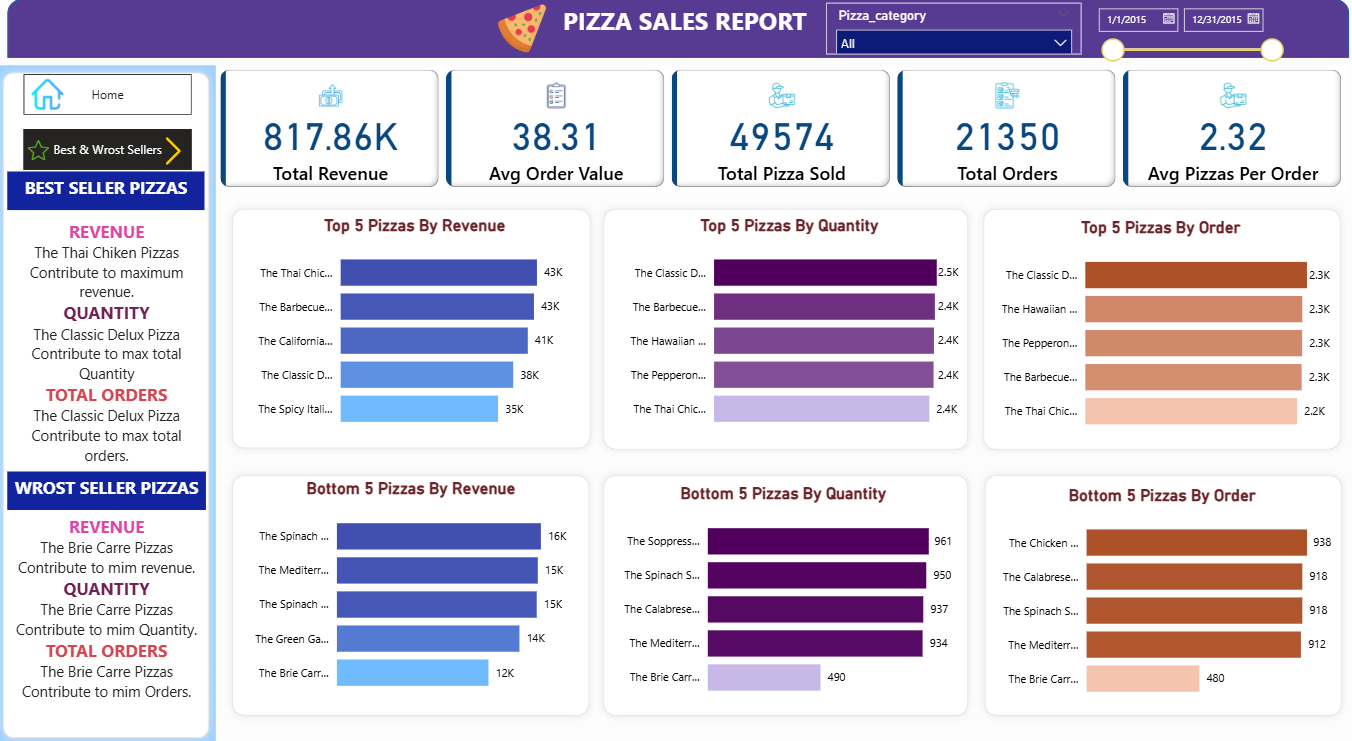

The dashboard page shown, as its layout file describes it:
{"tool":"powerbi","page":{"name":"Best & Wrost Sellers","canvas":[1500,820],"ordinal":1},"visuals":[{"type":"cardVisual","fields":{"Data":["pizza_sales.Total Revenue","pizza_sales.Avg Order Value","pizza_sales.Total Pizza Sold","pizza_sales.Total Orders","pizza_sales.Avg Pizzas Per Order"]},"box":[242.1,73.2,1244.9,139.4],"z":0},{"type":"shape","box":[0,72.8,241.8,747.5],"z":1000},{"type":"shape","box":[11.8,0,1475.2,65],"z":2000},{"type":"textbox","box":[618.2,0,294.6,66.2],"z":3000},{"type":"image","box":[538.6,0,79.6,65.1],"z":4000},{"type":"shape","box":[251.4,221.9,410.1,279.5],"z":5000},{"type":"textbox","box":[12.4,189.6,217.1,42.6],"z":6000},{"type":"textbox","box":[12.4,237.7,218.5,310.5],"z":7000},{"type":"textbox","box":[12.4,519.4,218.5,42.6],"z":8000},{"type":"textbox","box":[12.4,562,218.5,233.6],"z":9000},{"type":"slicer","fields":{"Values":["pizza_sales.pizza_category"]},"box":[911.8,3.5,281.1,56.7],"z":10000},{"type":"slicer","fields":{"Values":["pizza_sales.order_date"]},"box":[1200,0,224.4,82.7],"z":11000},{"type":"shape","box":[251.4,515.4,408.7,280.9],"z":12000},{"type":"shape","box":[660.1,221.9,417.1,280.9],"z":13000},{"type":"shape","box":[660.1,515.4,417.1,280.9],"z":14000},{"type":"shape","box":[1077.2,221.9,408.7,280.9],"z":15000},{"type":"shape","box":[1078.7,515.4,408.7,280.9],"z":16000},{"type":"barChart","title":"Top 5 Pizzas By Revenue","fields":{"Category":["pizza_sales.pizza_name"],"Y":["pizza_sales.Total Revenue"]},"box":[271.7,238.3,376.7,248.3],"z":17000},{"type":"barChart","title":"Bottom 5 Pizzas By Revenue","fields":{"Category":["pizza_sales.pizza_name"],"Y":["pizza_sales.Total Revenue"]},"box":[268.3,528.1,376.4,248.6],"z":18000},{"type":"barChart","title":"Top 5 Pizzas By Quantity","fields":{"Category":["pizza_sales.pizza_name"],"Y":["pizza_sales.Total Pizza Sold"]},"box":[681.7,238.3,381.7,248.3],"z":19000},{"type":"barChart","title":"Bottom 5 Pizzas By Quantity","fields":{"Category":["pizza_sales.pizza_name"],"Y":["pizza_sales.Total Pizza Sold"]},"box":[675,533.3,381.7,248.3],"z":20000},{"type":"barChart","title":"Top 5 Pizzas By Order","fields":{"Category":["pizza_sales.pizza_name"],"Y":["pizza_sales.Total Orders"]},"box":[1090,240,381.7,248.3],"z":21000},{"type":"barChart","title":"Bottom 5 Pizzas By Order","fields":{"Category":["pizza_sales.pizza_name"],"Y":["pizza_sales.Total Orders"]},"box":[1090.8,533.9,381.7,248.2],"z":22000},{"type":"pageNavigator","box":[30.2,82.4,185.5,45.3],"z":23000},{"type":"pageNavigator","box":[30.2,142.9,185.5,45.3],"z":24000},{"type":"image","box":[30.2,82.4,53.6,45.3],"z":24001},{"type":"image","box":[174.5,144.3,41.2,45.3],"z":24002},{"type":"image","box":[30.2,149.8,33,33],"z":24003}]}

Visuals, with their boxes in screenshot pixels (x1, y1, x2, y2), scaled from the page's 1500x820 canvas onto the 1352x741 screenshot:
cardVisual - pizza_sales.Total Revenue x pizza_sales.Avg Order Value: (x1=218, y1=66, x2=1340, y2=192)
shape: (x1=0, y1=66, x2=218, y2=740)
shape: (x1=11, y1=0, x2=1340, y2=59)
textbox: (x1=557, y1=0, x2=823, y2=60)
image: (x1=485, y1=0, x2=557, y2=59)
shape: (x1=227, y1=201, x2=596, y2=453)
textbox: (x1=11, y1=171, x2=207, y2=210)
textbox: (x1=11, y1=215, x2=208, y2=495)
textbox: (x1=11, y1=469, x2=208, y2=508)
textbox: (x1=11, y1=508, x2=208, y2=719)
slicer - pizza_sales.pizza_category: (x1=822, y1=3, x2=1075, y2=54)
slicer - pizza_sales.order_date: (x1=1082, y1=0, x2=1284, y2=75)
shape: (x1=227, y1=466, x2=595, y2=720)
shape: (x1=595, y1=201, x2=971, y2=454)
shape: (x1=595, y1=466, x2=971, y2=720)
shape: (x1=971, y1=201, x2=1339, y2=454)
shape: (x1=972, y1=466, x2=1341, y2=720)
"Top 5 Pizzas By Revenue" barChart: (x1=245, y1=215, x2=584, y2=440)
"Bottom 5 Pizzas By Revenue" barChart: (x1=242, y1=477, x2=581, y2=702)
"Top 5 Pizzas By Quantity" barChart: (x1=614, y1=215, x2=958, y2=440)
"Bottom 5 Pizzas By Quantity" barChart: (x1=608, y1=482, x2=952, y2=706)
"Top 5 Pizzas By Order" barChart: (x1=982, y1=217, x2=1326, y2=441)
"Bottom 5 Pizzas By Order" barChart: (x1=983, y1=482, x2=1327, y2=707)
pageNavigator: (x1=27, y1=74, x2=194, y2=115)
pageNavigator: (x1=27, y1=129, x2=194, y2=170)
image: (x1=27, y1=74, x2=76, y2=115)
image: (x1=157, y1=130, x2=194, y2=171)
image: (x1=27, y1=135, x2=57, y2=165)
